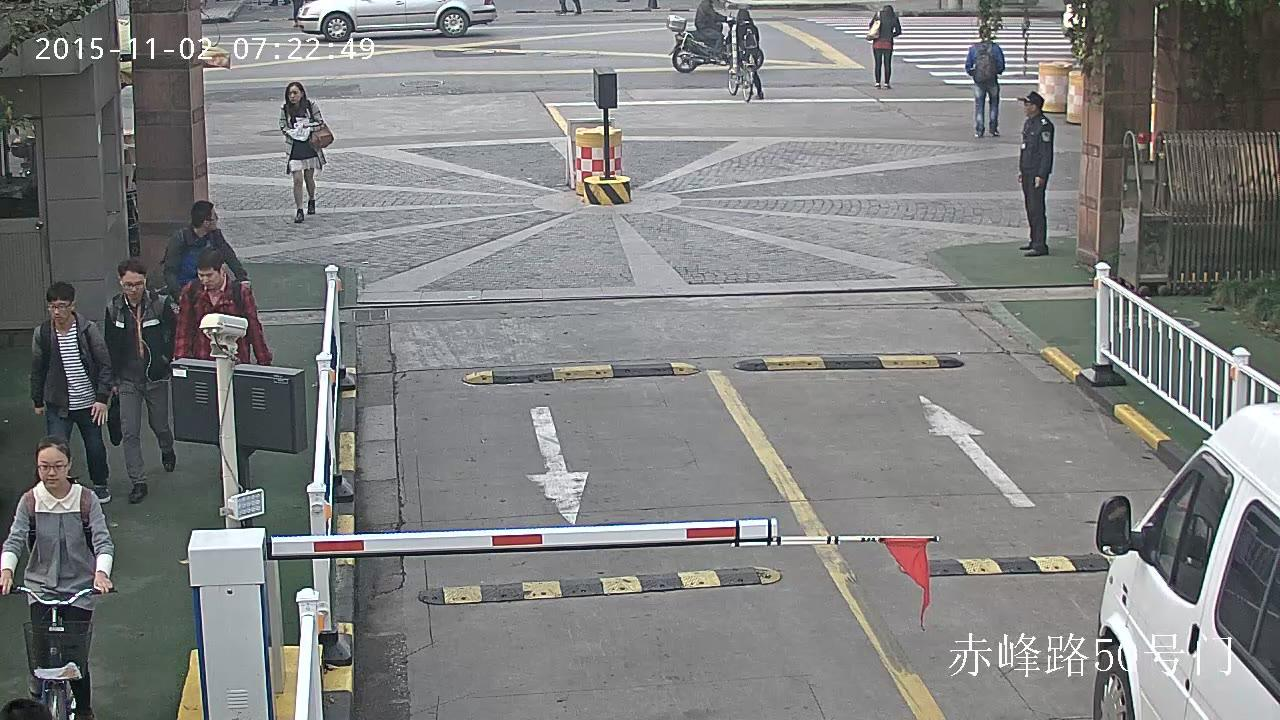person: (0, 434, 116, 720), (0, 434, 114, 720), (29, 280, 114, 503), (102, 260, 177, 502), (175, 249, 271, 363), (161, 200, 251, 296), (280, 82, 333, 222), (665, 0, 763, 71), (1016, 91, 1053, 256), (965, 25, 1005, 137), (725, 7, 764, 103), (725, 7, 764, 98), (865, 5, 900, 87), (694, 0, 726, 55)
